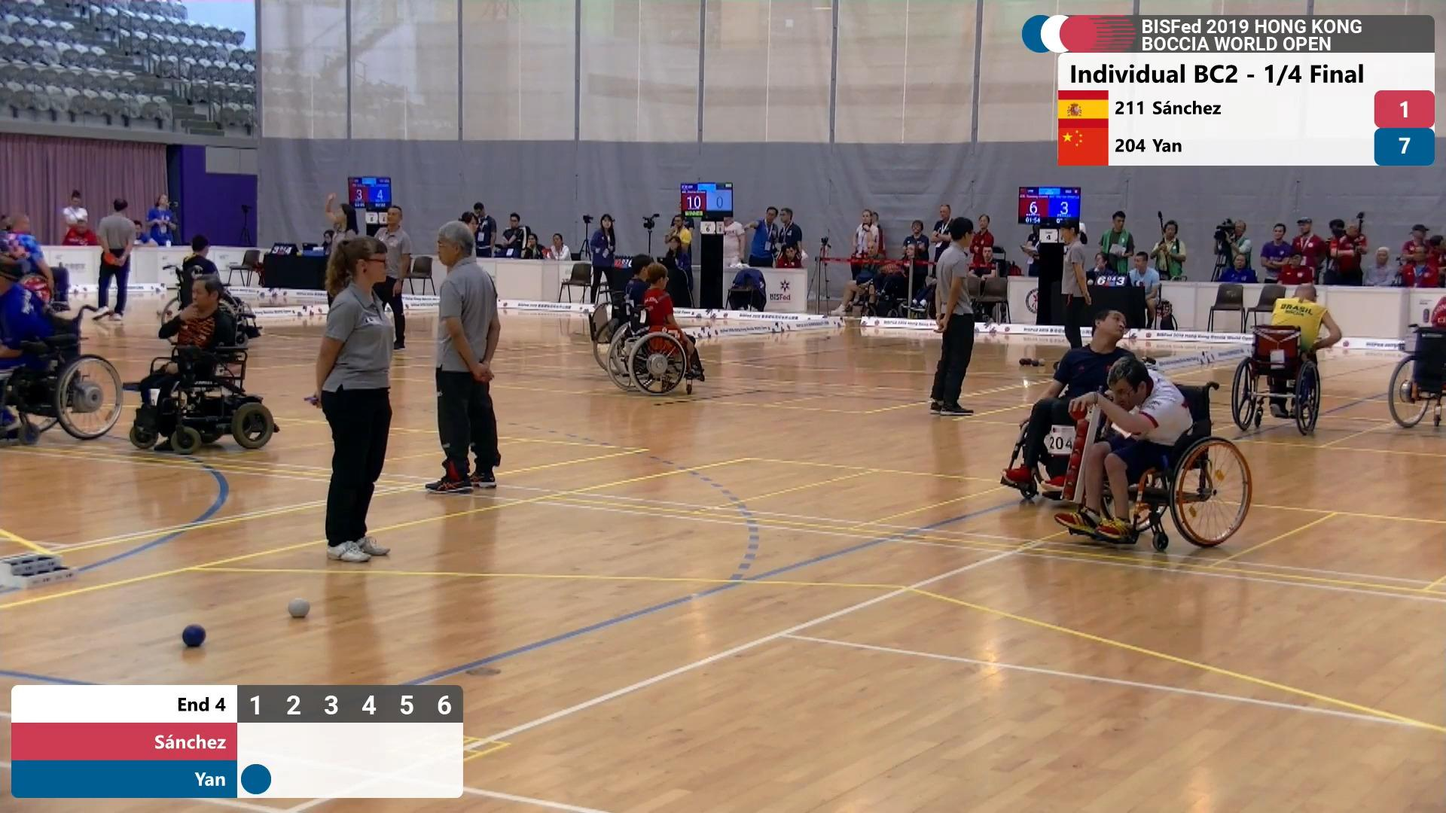blue_ball: (179, 622, 208, 650)
white_ball: (285, 596, 313, 621)
